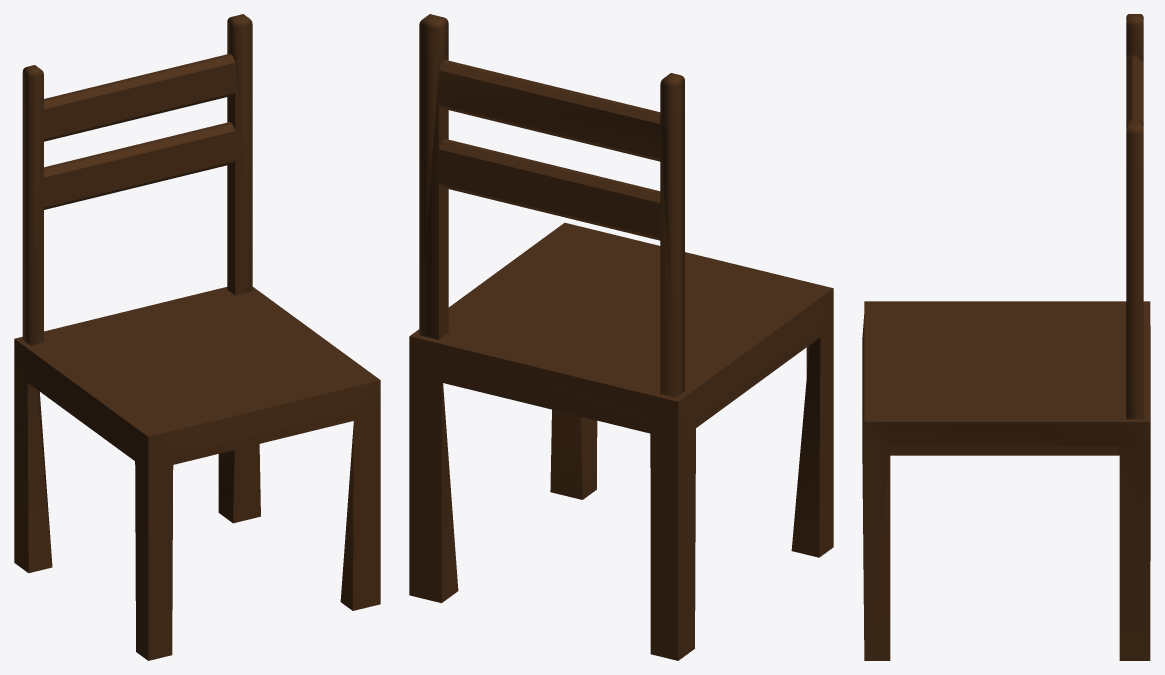
The model's file is Chair.FBX.
The picture shows the model from 3 angles, left to right: view 1: azimuth 30°, elevation 25°; view 2: azimuth 150°, elevation 25°; view 3: azimuth 270°, elevation 25°; orthographic projection. The views are drawn at different scales.
Parts seen in each view (by area): view 1: Chair; view 2: Chair; view 3: Chair.
Part boxes in pixels (x1,y1,x2,y2): Chair: (14, 14, 380, 660); Chair: (409, 14, 833, 660); Chair: (862, 14, 1150, 660).
Bounding box in the file's own units: 82.27 × 168 × 82.6.
